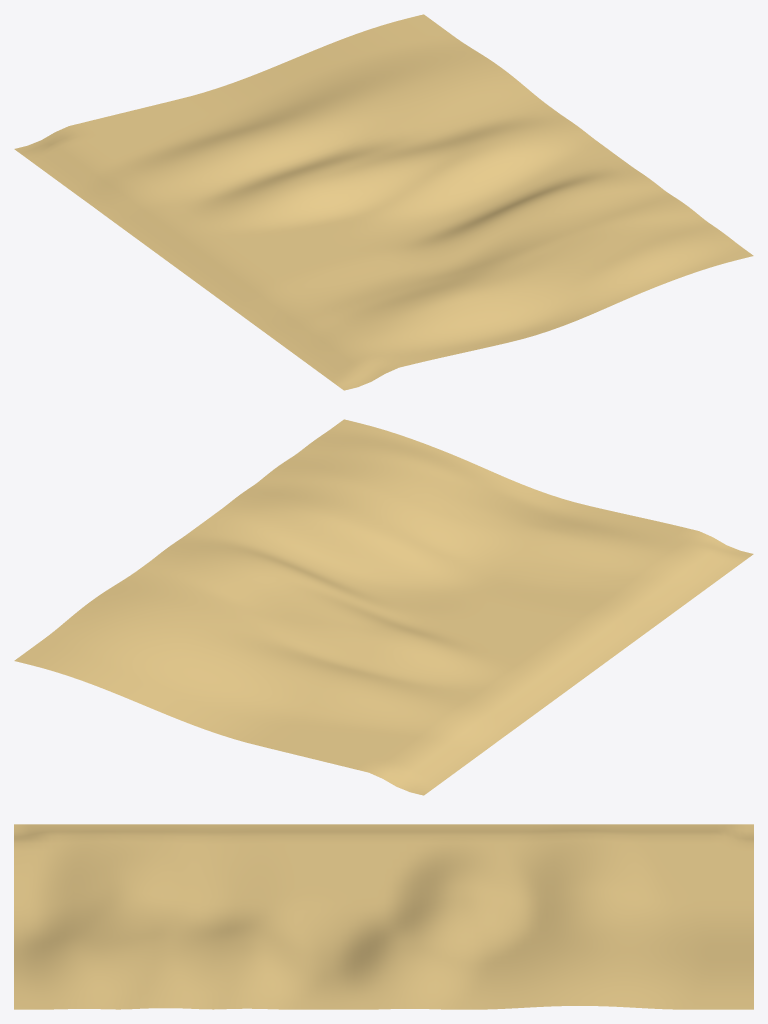
Rendered from beach.fbx.
3 views of the same model, one above another, from view 1: azimuth 30°, elevation 25°; view 2: azimuth 150°, elevation 25°; view 3: azimuth 270°, elevation 25° (orthographic). The views are drawn at different scales.
Visible parts, largest first — view 1: Beach; view 2: Beach; view 3: Beach.
Part boxes in pixels (<box>): Beach: <box>14,14,753,390</box>; Beach: <box>14,419,753,795</box>; Beach: <box>14,824,753,1009</box>.
Size of the model in its own units: 71.69 by 6.71 by 100.
